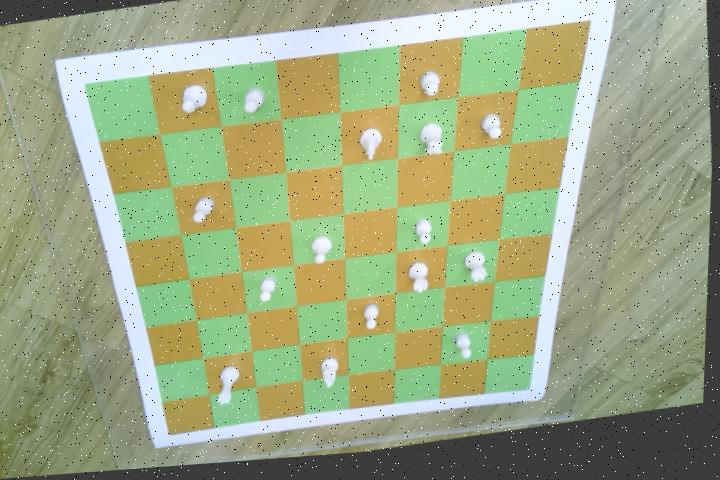chessboard-detect: (81, 27, 590, 438)
